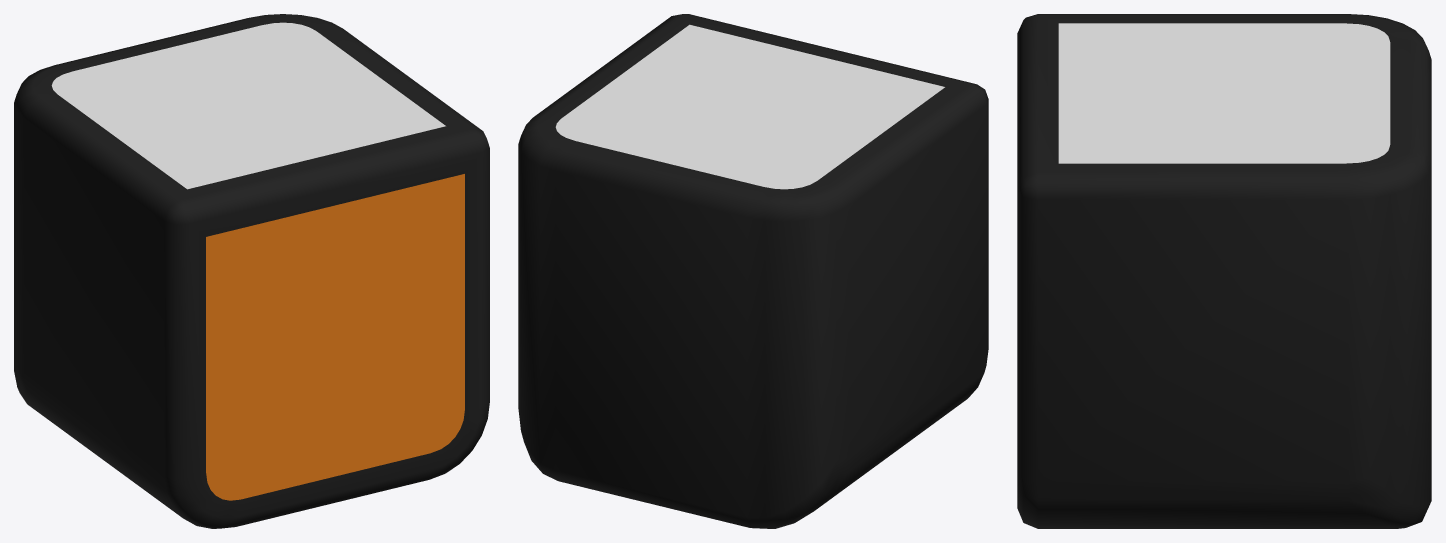
3 renders of one model, left to right at view 1: azimuth 30°, elevation 25°; view 2: azimuth 150°, elevation 25°; view 3: azimuth 270°, elevation 25°, orthographic. The views are drawn at different scales.
Parts seen in each view (by area): view 1: 22; view 2: 22; view 3: 22.
Part boxes in pixels (box(x1,y1,x2,y2)): 22: box(14, 14, 489, 528); 22: box(518, 14, 988, 528); 22: box(1017, 14, 1431, 528).
Size of the model in its own units: 2 by 2 by 2.
